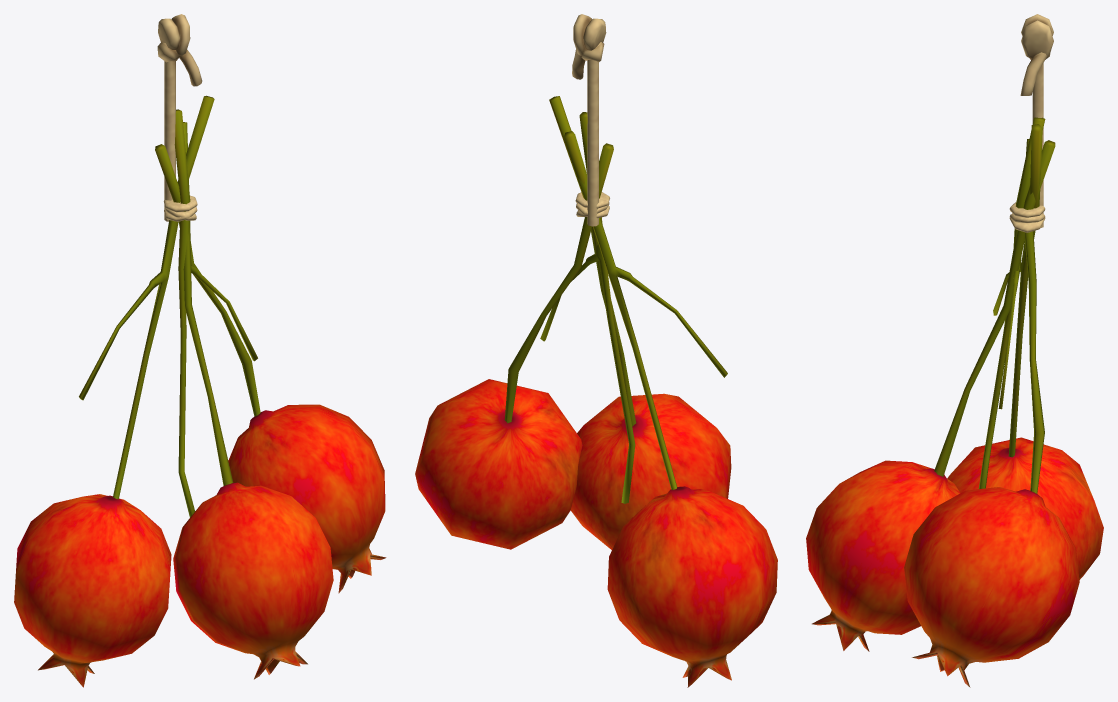
File: Pomegranate.fbx
The picture shows the model from 3 angles, left to right: view 1: azimuth 30°, elevation 25°; view 2: azimuth 150°, elevation 25°; view 3: azimuth 270°, elevation 25°; orthographic projection. The views are drawn at different scales.
Visible parts, largest first — view 1: U_Pomegranate; view 2: U_Pomegranate; view 3: U_Pomegranate.
Boxes of the visible parts, x1,y1,x2,y2 form: U_Pomegranate: (14, 14, 386, 687); U_Pomegranate: (415, 14, 777, 687); U_Pomegranate: (806, 14, 1103, 687).
Size of the model in its own units: 47.16 by 82.61 by 33.86.
Materials: 1 (1 with a texture image).
